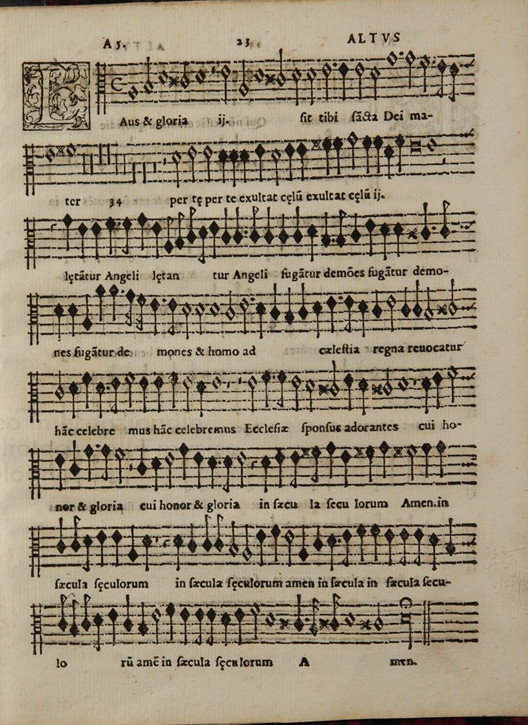breve rest: (150, 136, 160, 188)
breve_5: (403, 133, 426, 158)
c clef_7: (18, 137, 38, 199)
custos_3: (459, 117, 480, 145)
longa rest: (138, 136, 150, 189), (129, 138, 141, 188), (77, 137, 88, 188), (94, 135, 104, 185), (86, 139, 96, 187), (110, 139, 120, 186), (103, 136, 112, 184), (119, 140, 128, 188)
minim rest: (160, 136, 169, 187), (440, 131, 449, 176)
minim_3: (345, 126, 358, 173)
minim_5: (199, 137, 216, 185), (185, 142, 198, 186)
minim_6: (268, 140, 282, 187), (170, 143, 183, 189)
semibreve_4: (63, 134, 79, 163)
semibreve_5: (38, 142, 57, 167), (422, 131, 440, 156)
semiminim_4: (393, 127, 406, 178), (320, 130, 333, 180), (372, 129, 385, 178), (332, 130, 344, 178), (360, 129, 372, 177)
semiminim_5: (295, 135, 308, 185), (282, 138, 295, 186), (253, 139, 264, 184)
semiminim_6: (227, 141, 240, 187), (383, 138, 396, 182), (238, 142, 250, 187), (217, 142, 228, 187)
sharp: (305, 132, 326, 154), (50, 139, 69, 160)
